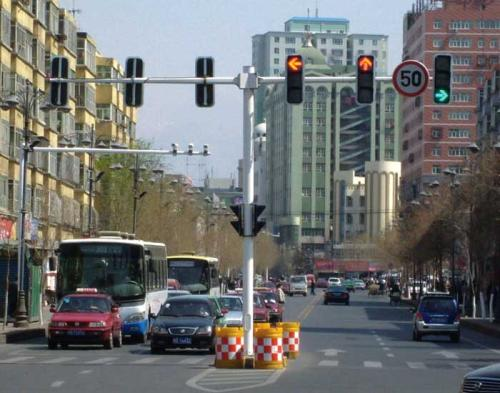green: (433, 53, 453, 107)
red: (285, 53, 304, 107), (357, 53, 375, 107)
